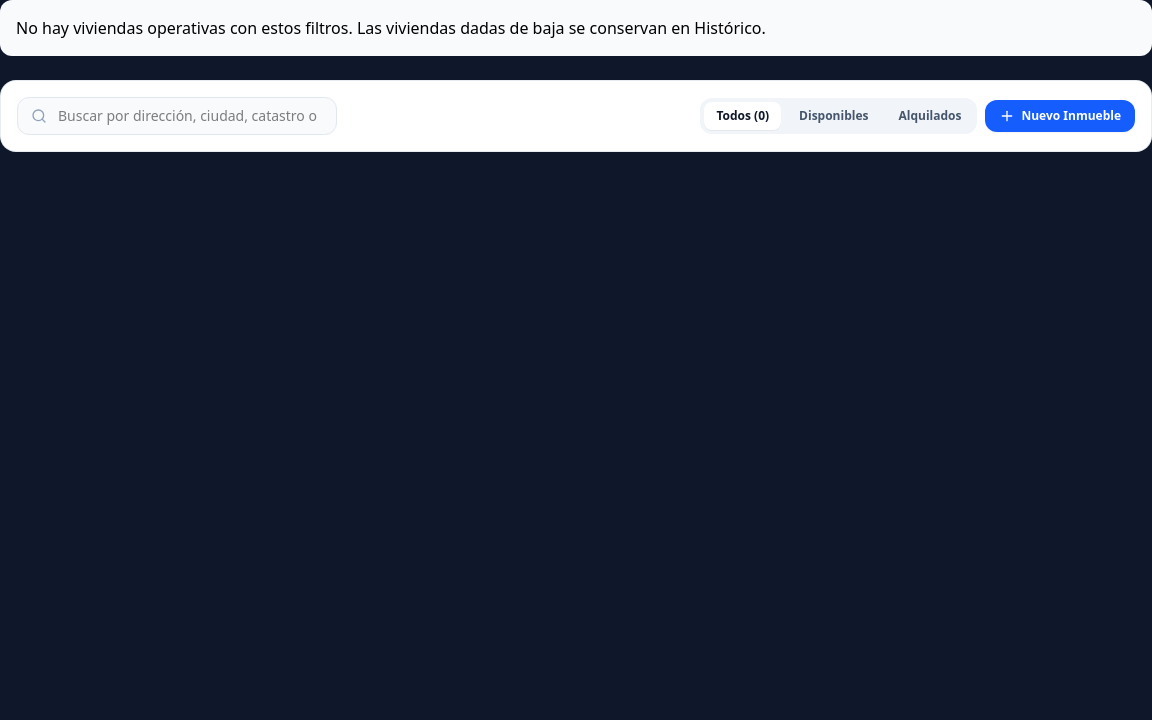
alta de inmueble desde propietario › F. el guardado se BLOQUEA si el propietario cambia el titular a manual/otro (guardia espejo de Firestore)
Click the button "Nuevo Inmueble" at (1060, 116), box [986, 100, 1135, 132]
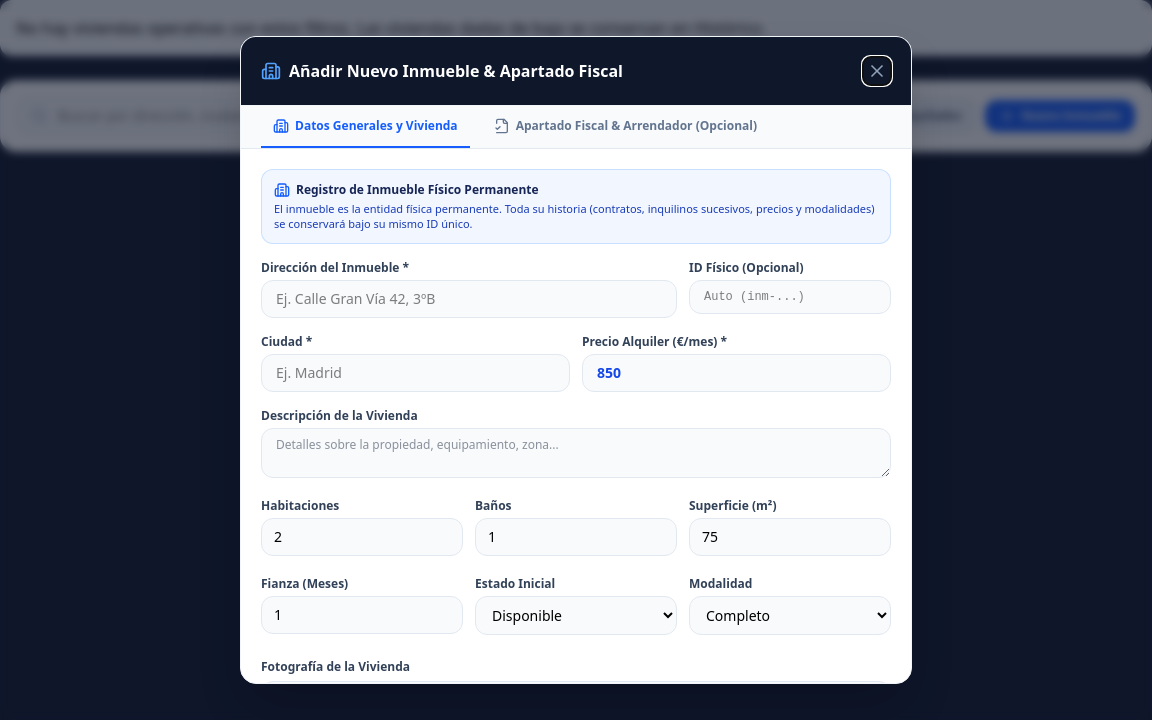
Click the button "Apartado Fiscal & Arrendador (Opcional)" at (625, 133), box [482, 118, 769, 148]
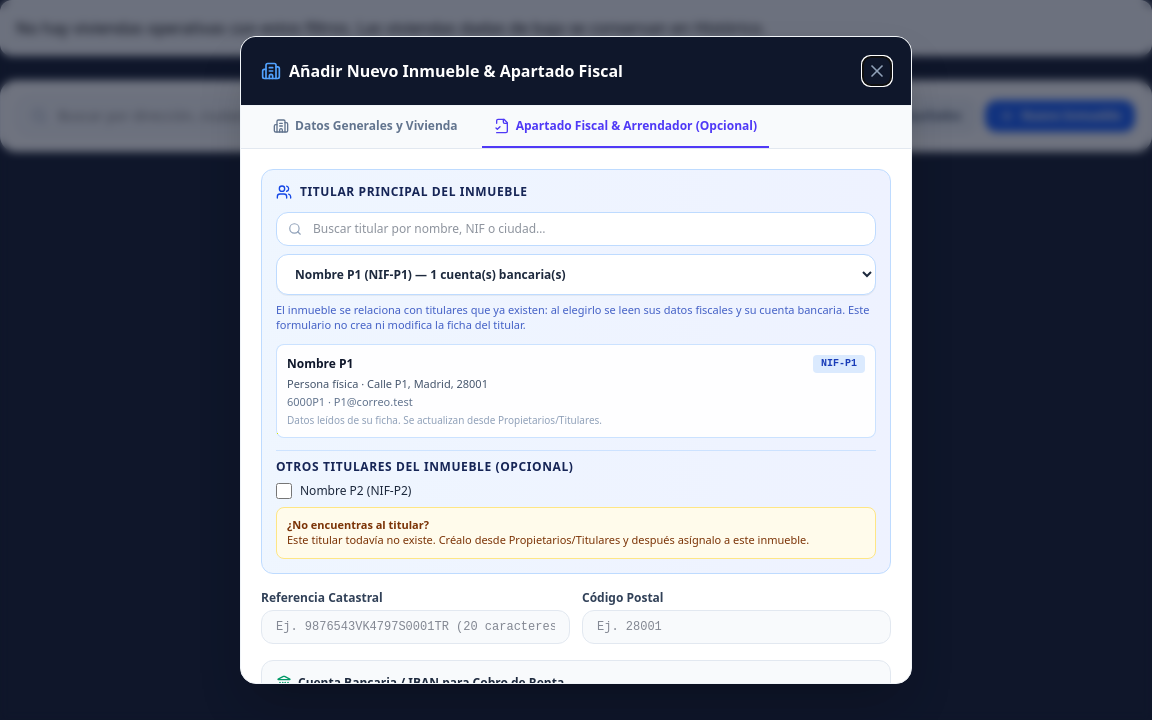
Now the dropdown shows "Nombre P1 (NIF-P1) — 1 cuenta(s) bancaria(s)"
Select "-- Selecciona un titular existente --" in the dropdown at (576, 274), box [276, 254, 876, 295]
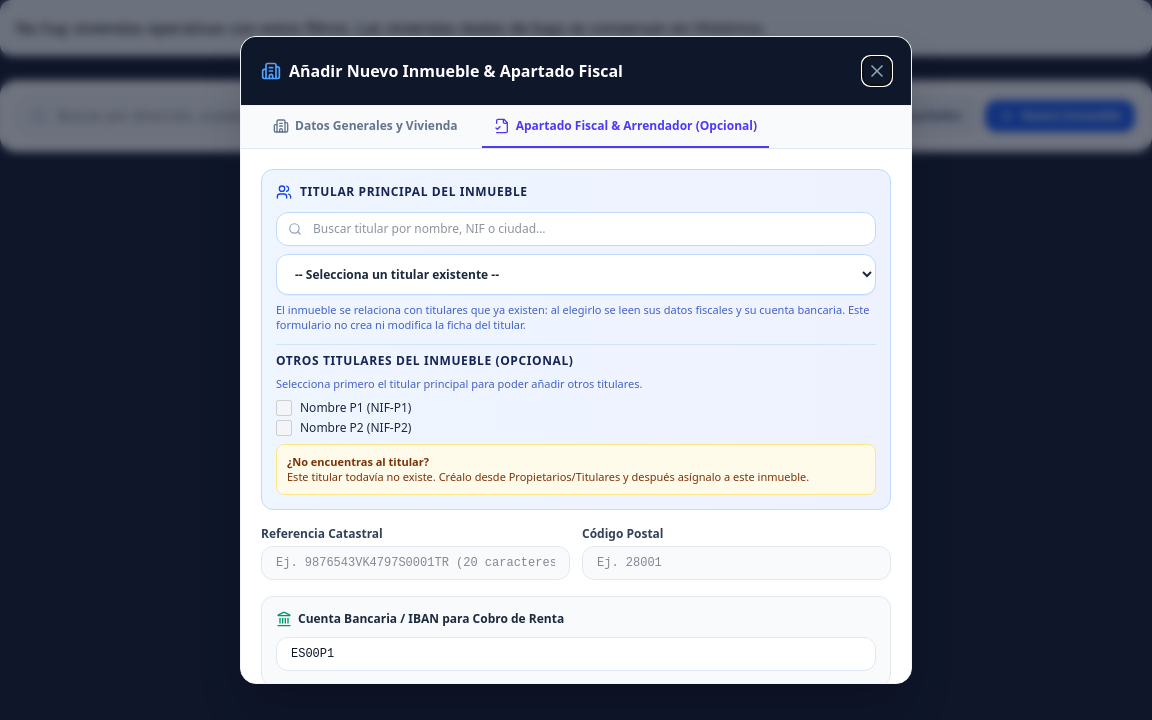
Click the button "Datos Generales y Vivienda" at (365, 133), box [261, 118, 470, 148]
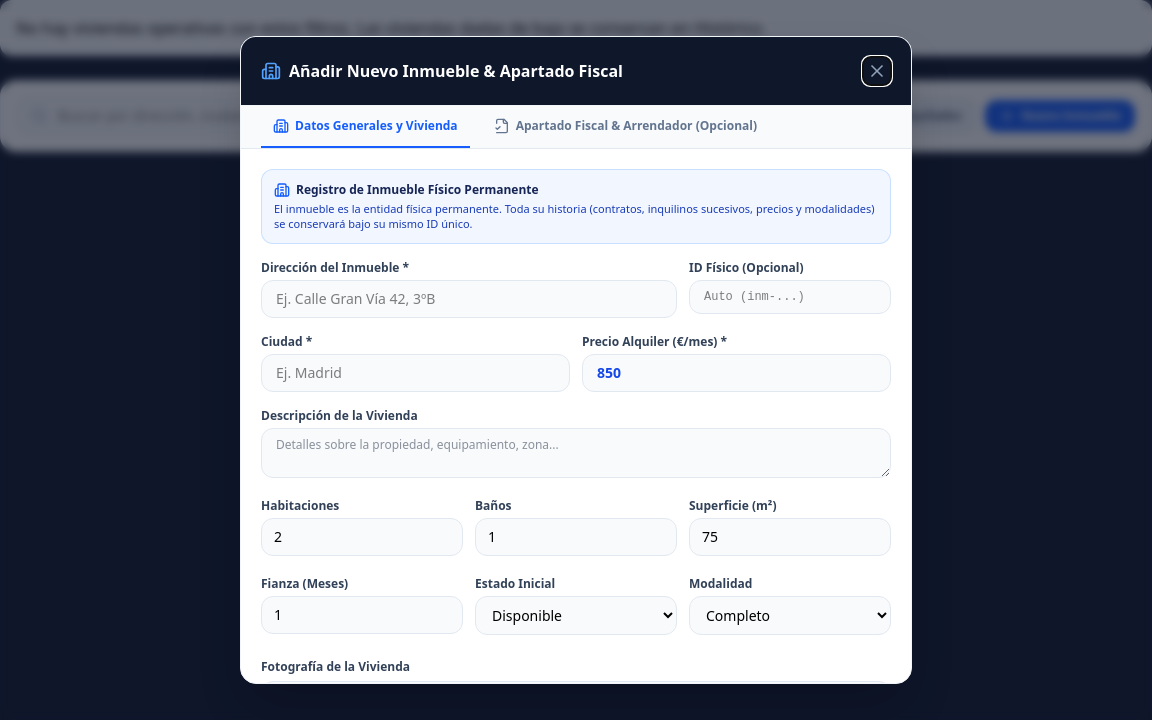
Type "Calle Mayor 1" into the field with placeholder "Ej. Calle Gran Vía 42, 3ºB" at (469, 299), box [261, 280, 677, 318]
Type "Sevilla" into the field with placeholder "Ej. Madrid" at (416, 373), box [261, 354, 570, 392]
(page scrolled)
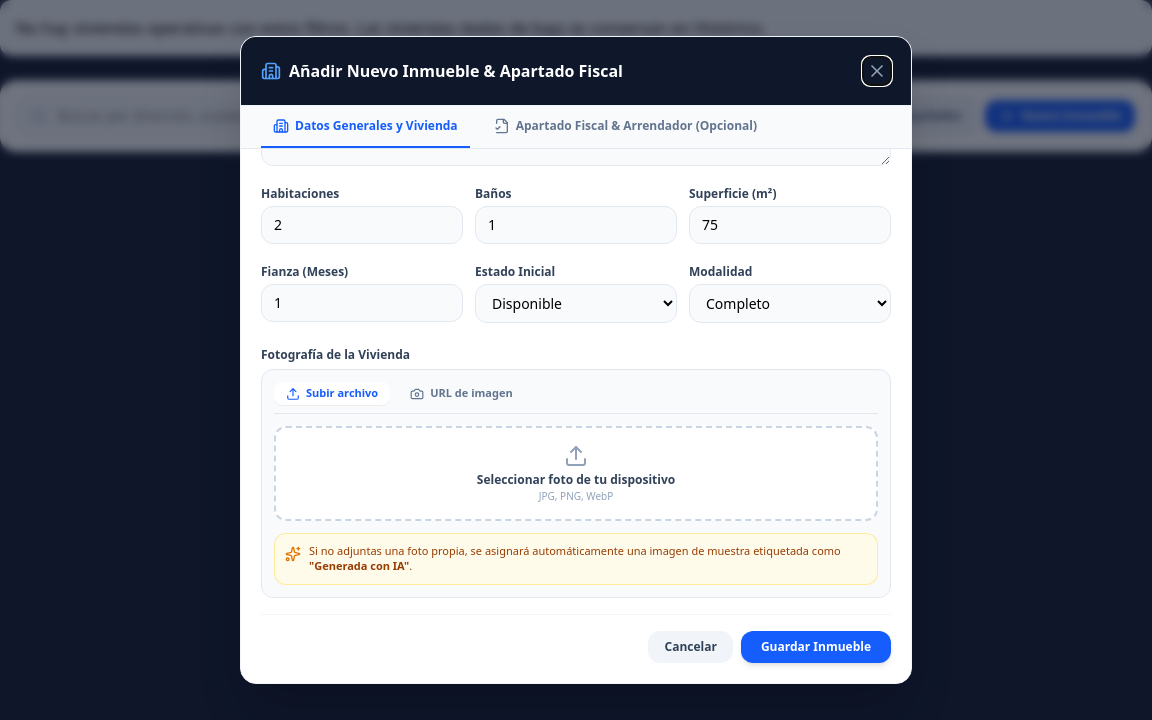
Click the button "Guardar Inmueble" at (816, 647), box [741, 631, 891, 663]
(page scrolled)
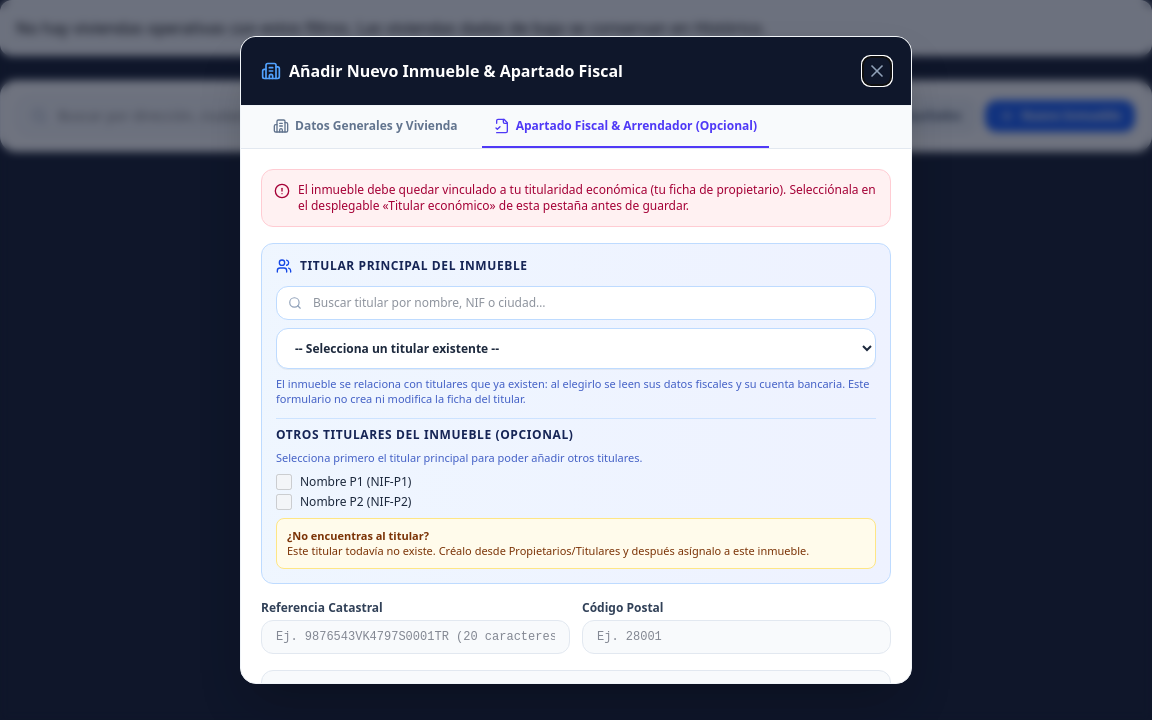
Now the text "titularidad económica" is shown, box [298, 181, 876, 214]
